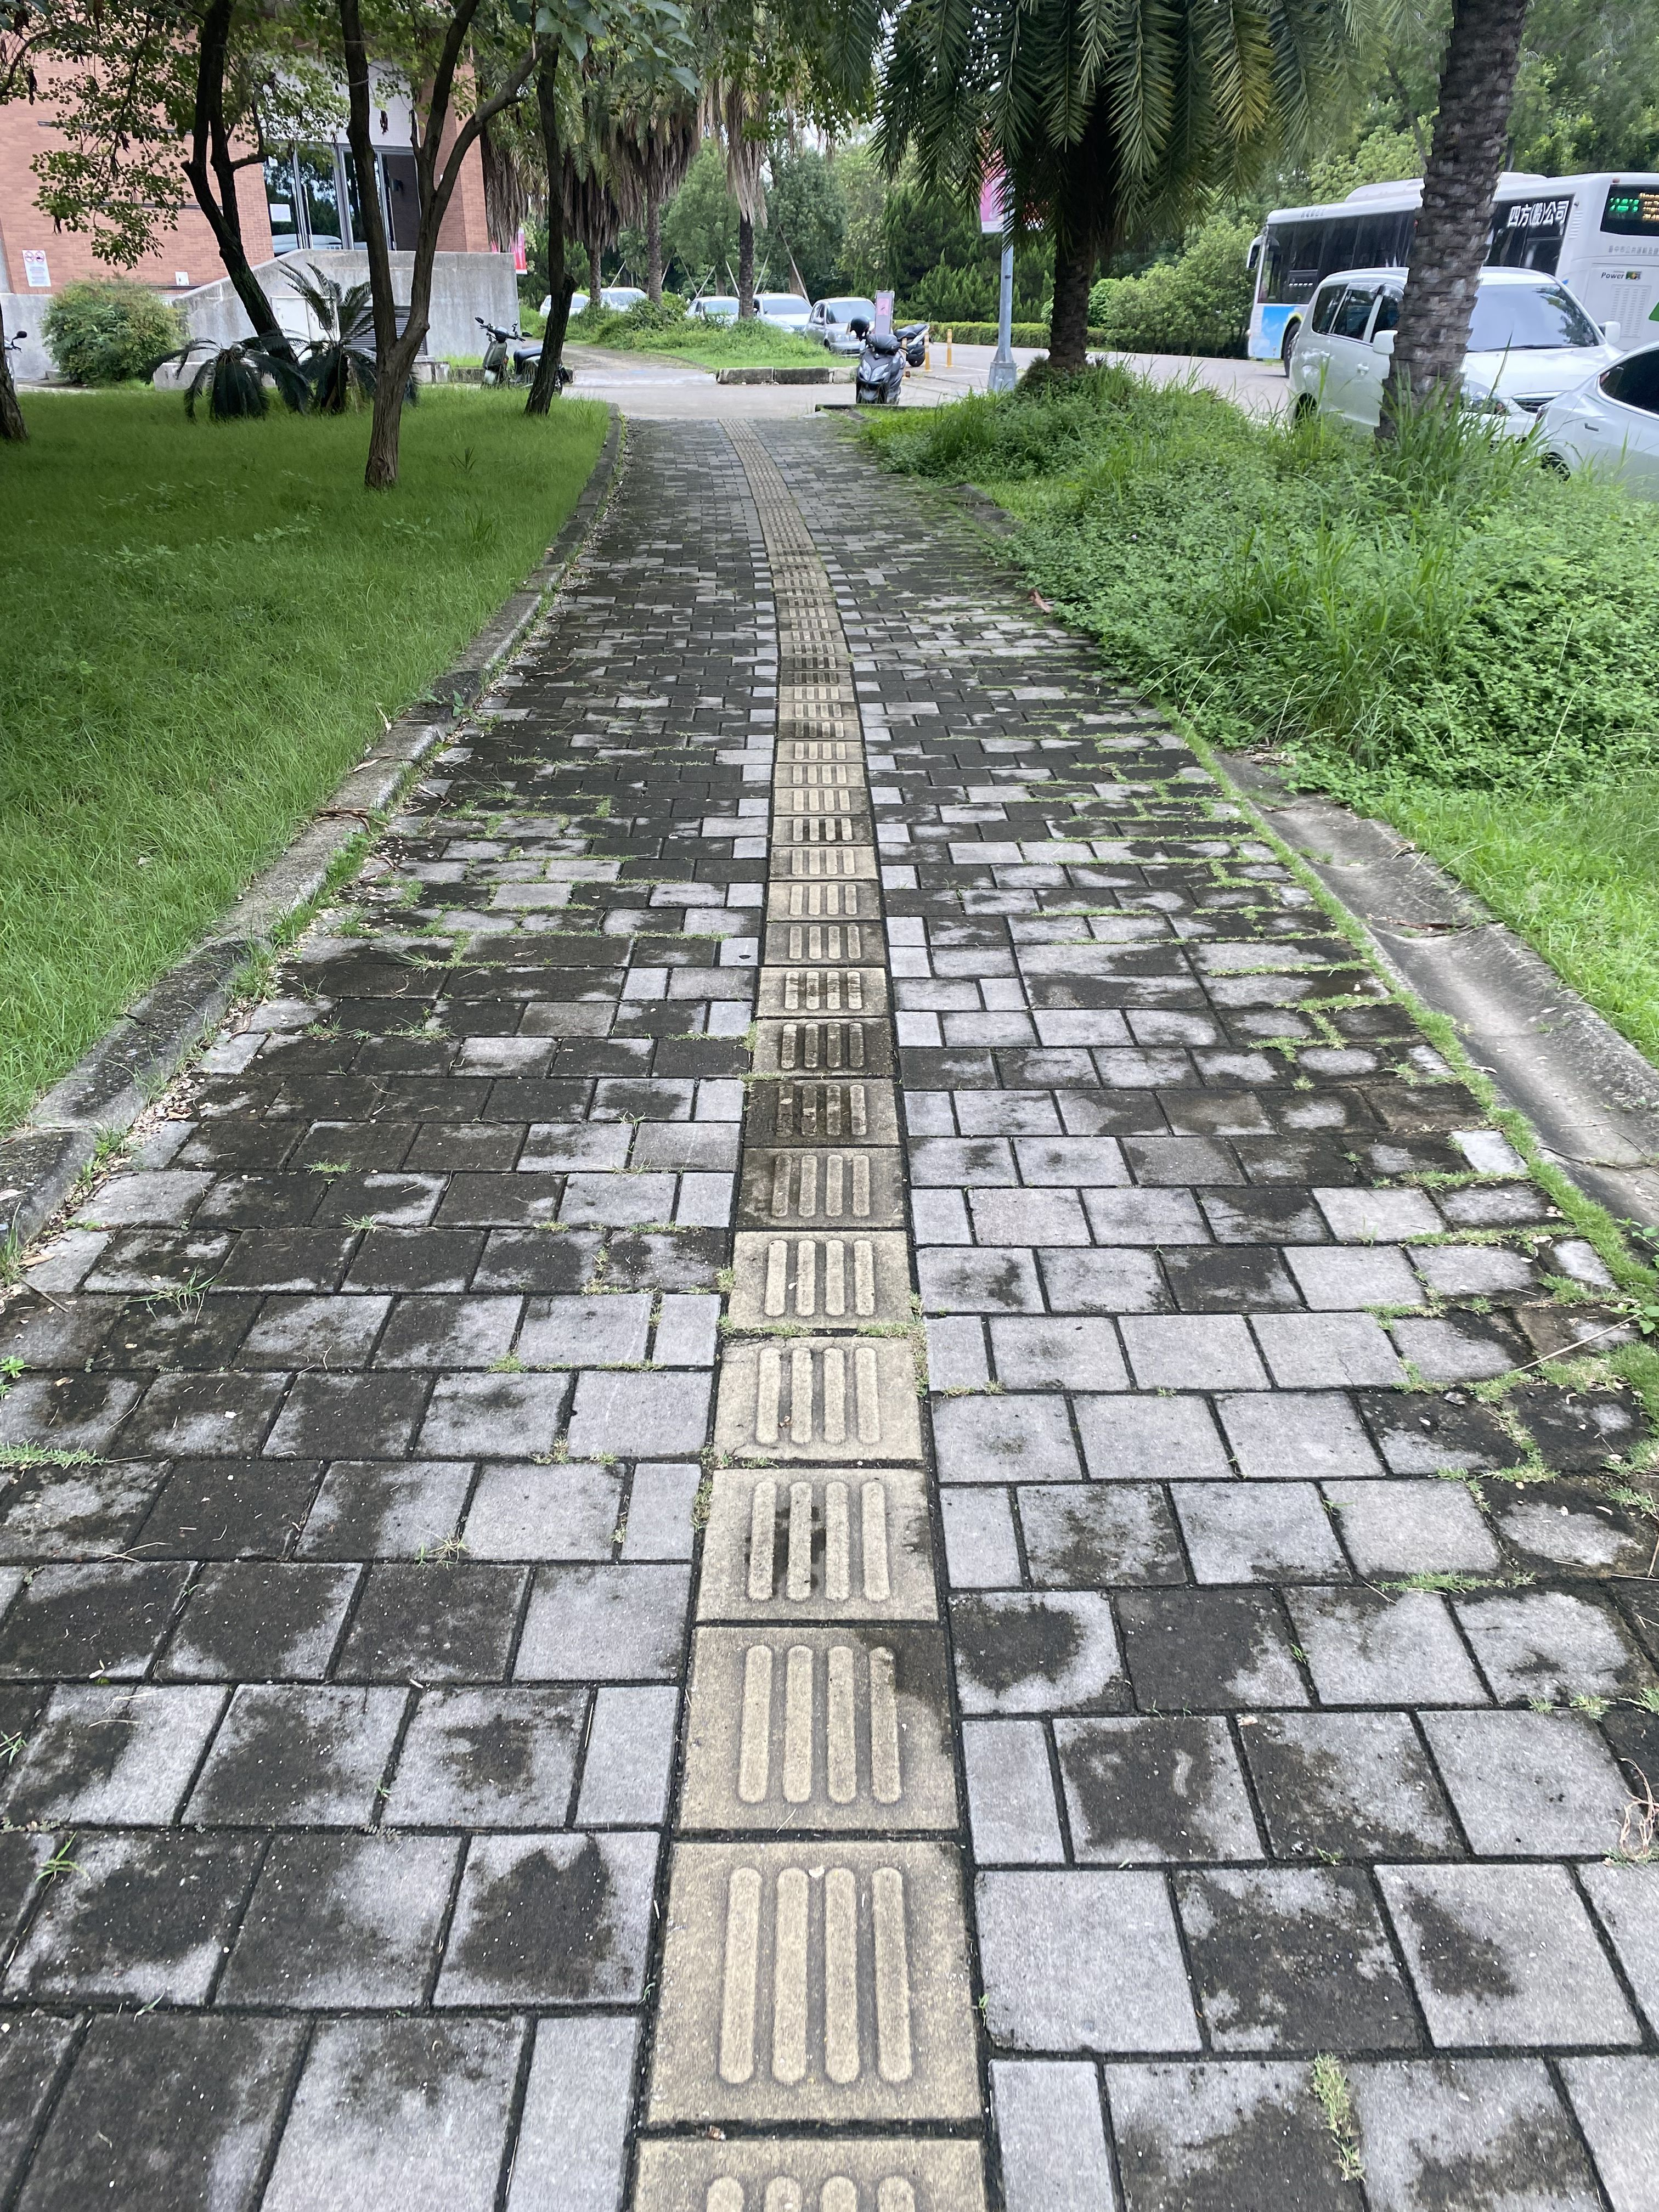sidewalk: (0, 334, 1659, 2212)
